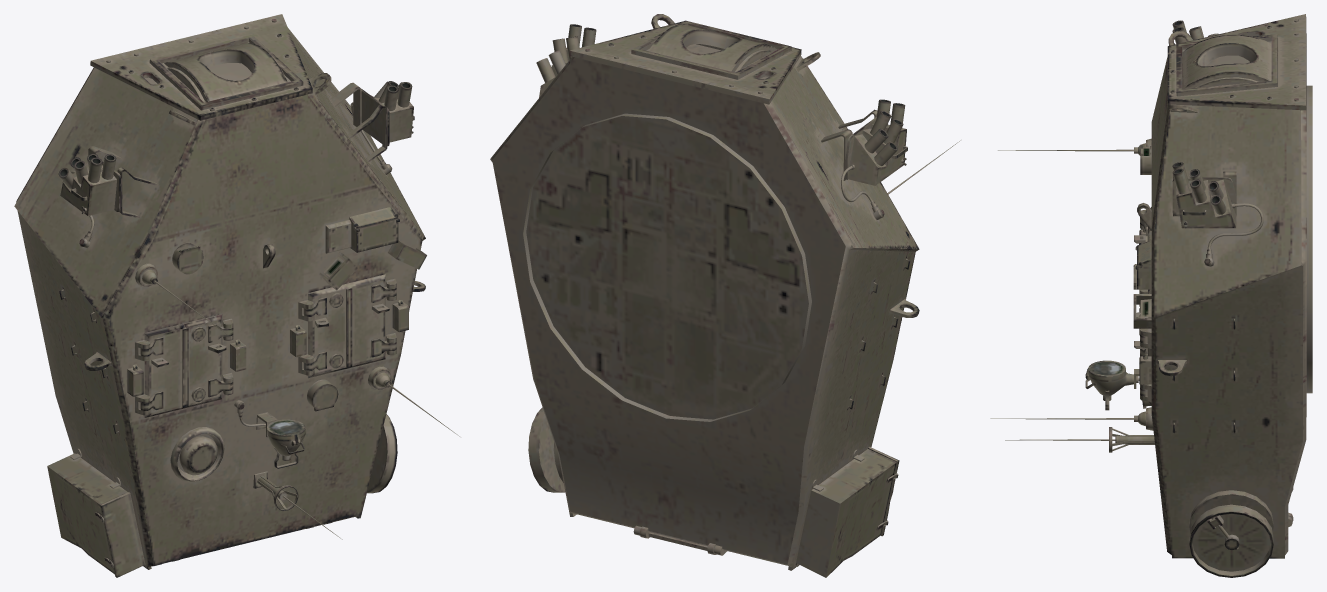
File: Turret_01.glb
The picture shows the model from 3 angles, left to right: view 1: azimuth 30°, elevation 25°; view 2: azimuth 150°, elevation 25°; view 3: azimuth 270°, elevation 25°; orthographic projection. The views are drawn at different scales.
Parts seen in each view (by area): view 1: set_0_group_0; view 2: set_0_group_0; view 3: set_0_group_0.
Boxes of the visible parts, x1,y1,x2,y2 form: set_0_group_0: [14, 14, 459, 577]; set_0_group_0: [490, 14, 960, 577]; set_0_group_0: [990, 14, 1312, 577].
Bounding box in the file's own units: 2.22 × 2.96 × 1.82.
1 material, 1 textured.
